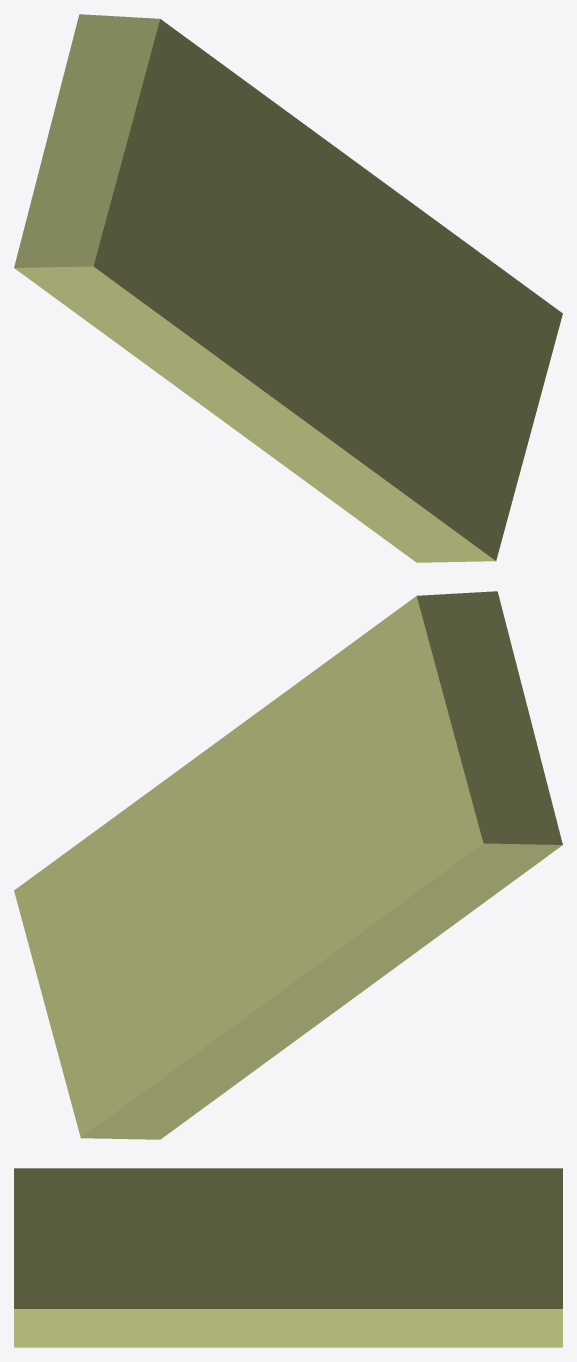
3 views of the same model, one above another, from view 1: azimuth 30°, elevation 25°; view 2: azimuth 150°, elevation 25°; view 3: azimuth 270°, elevation 25° (orthographic). The views are drawn at different scales.
Parts seen in each view (by area): view 1: 0_1_1_3_3_1_1_3_3_0_2_1; view 2: 0_1_1_3_3_1_1_3_3_0_2_1; view 3: 0_1_1_3_3_1_1_3_3_0_2_1.
Boxes of the visible parts, left/top/right/bottom form: 0_1_1_3_3_1_1_3_3_0_2_1: left=14, top=14, right=562, bottom=562; 0_1_1_3_3_1_1_3_3_0_2_1: left=14, top=591, right=562, bottom=1139; 0_1_1_3_3_1_1_3_3_0_2_1: left=14, top=1168, right=562, bottom=1347.
Bounding box in the file's own units: 1.89 × 3.15 × 9.
